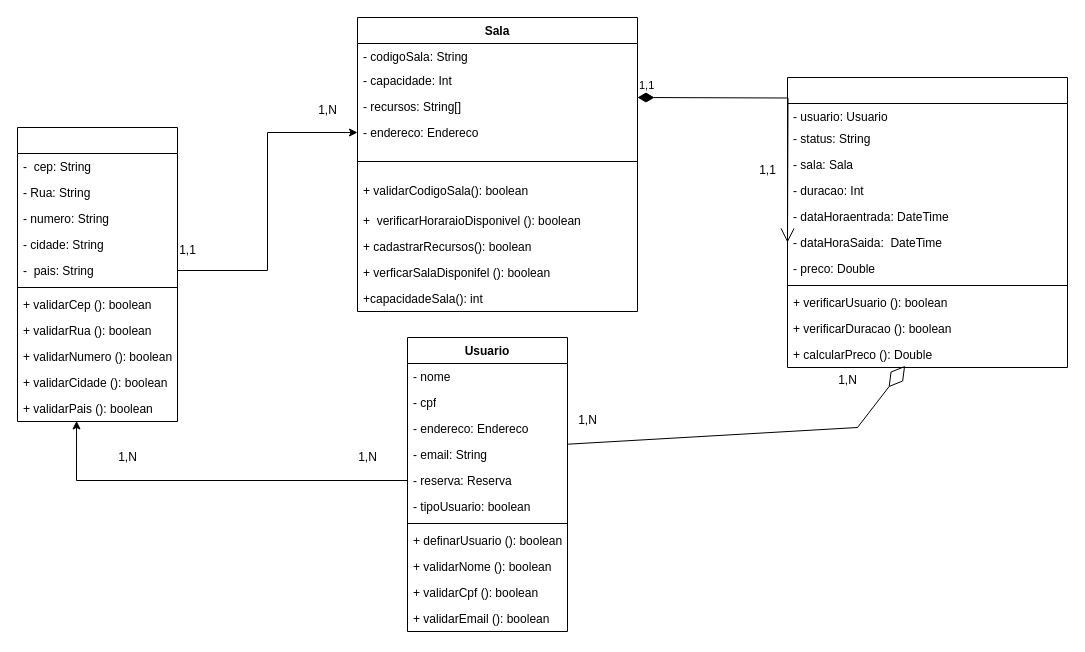
This 1085x652 diagram has some shape labels left out. The box of each missing label's shape, as (x1, y1, x2, y2) in pixels:
Endereco: (16, 126, 178, 422)
Reserva: (786, 76, 1068, 368)
